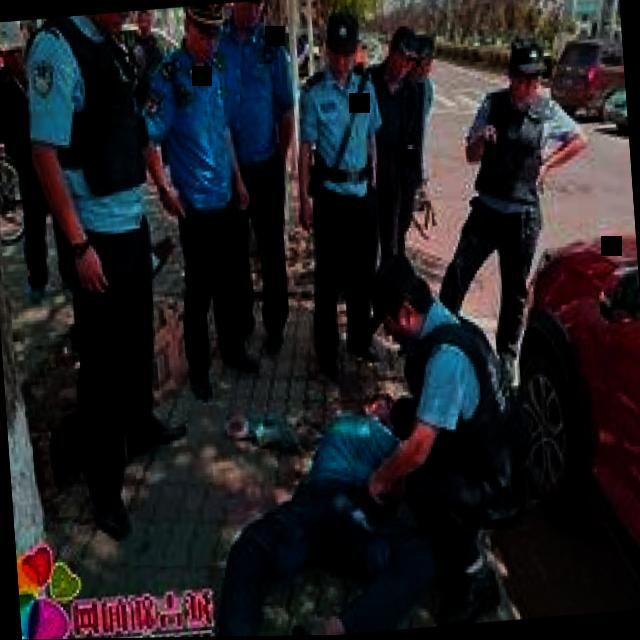Fall-Detected: (173, 369, 443, 638)
